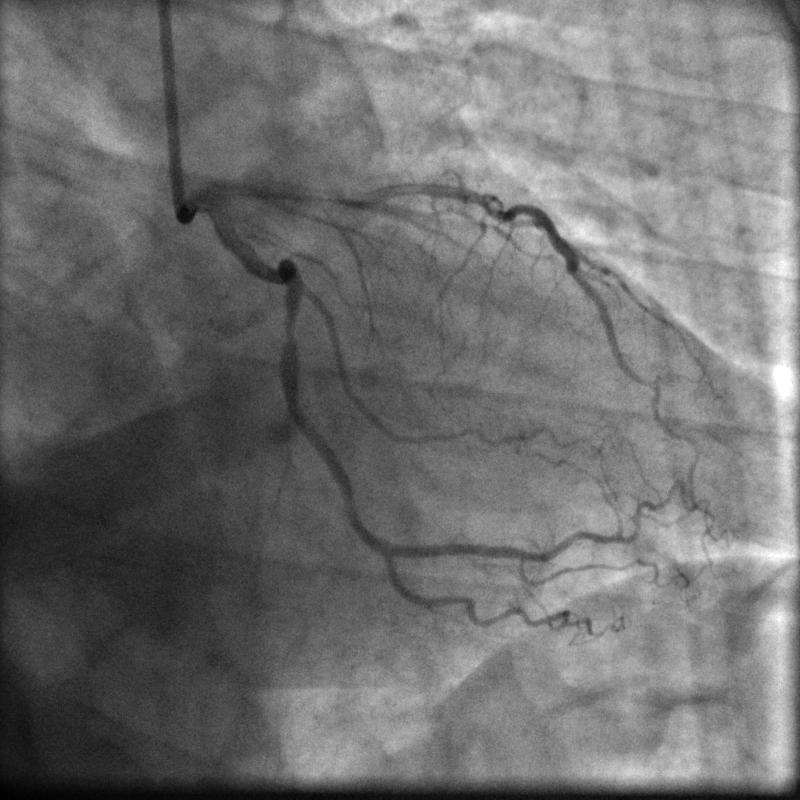Stenosis: (281, 315, 296, 342)
